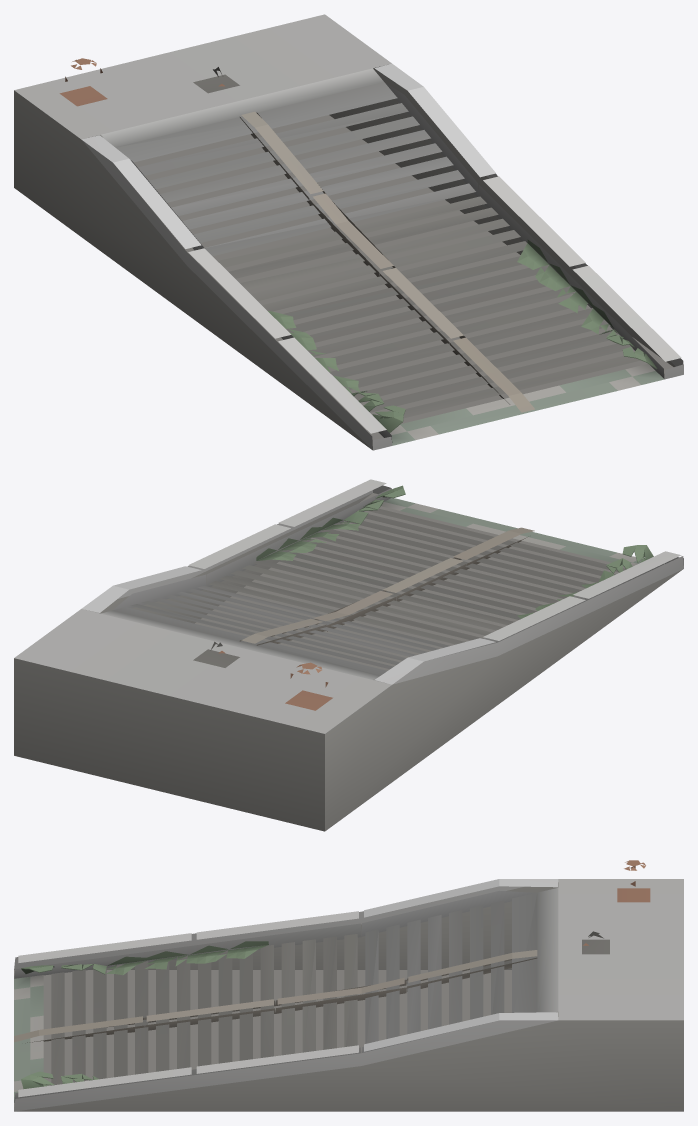
File: slipway.lod.glb
The picture shows the model from 3 angles, top to bottom: view 1: azimuth 30°, elevation 25°; view 2: azimuth 150°, elevation 25°; view 3: azimuth 270°, elevation 25°; orthographic projection. The views are drawn at different scales.
Visible parts, largest first — view 1: slipway; view 2: slipway; view 3: slipway.
Boxes of the visible parts, x1,y1,x2,y2 form: slipway: [14, 14, 683, 450]; slipway: [14, 479, 683, 831]; slipway: [14, 860, 683, 1111].
Size of the model in its own units: 4 by 1.67 by 8.
